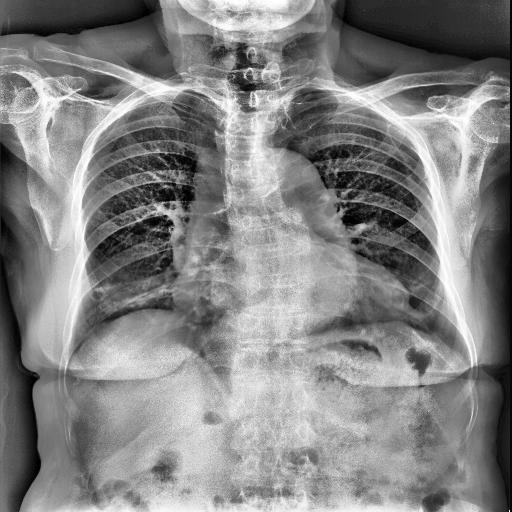0- Aortic enlargement: (250, 148, 338, 220), (249, 148, 336, 214), (268, 147, 338, 217)
13- Pulmonary fibrosis: (94, 280, 174, 310), (94, 283, 174, 308)
3- Cardiomegaly: (168, 263, 410, 326), (174, 275, 412, 323), (170, 282, 412, 324)
7- Lung Opacity: (79, 284, 172, 342), (94, 280, 174, 310)
9- Other lesion: (79, 284, 172, 342)
